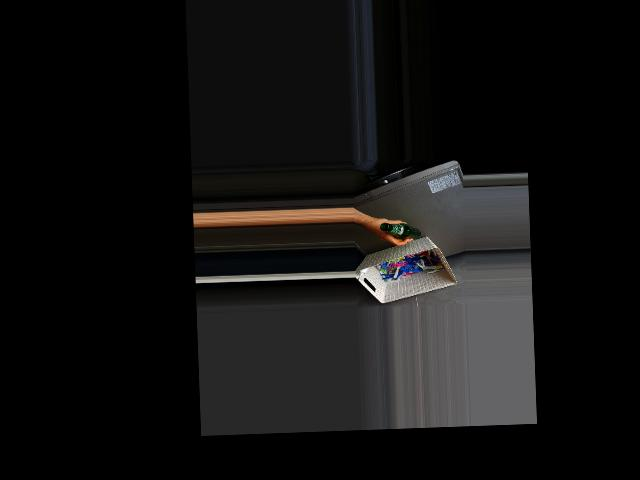beer: (379, 221, 420, 241)
